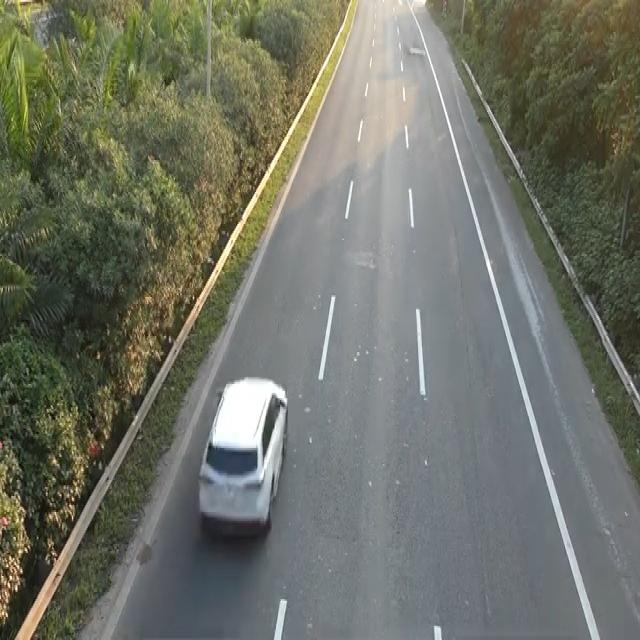car: (195, 372, 289, 538)
